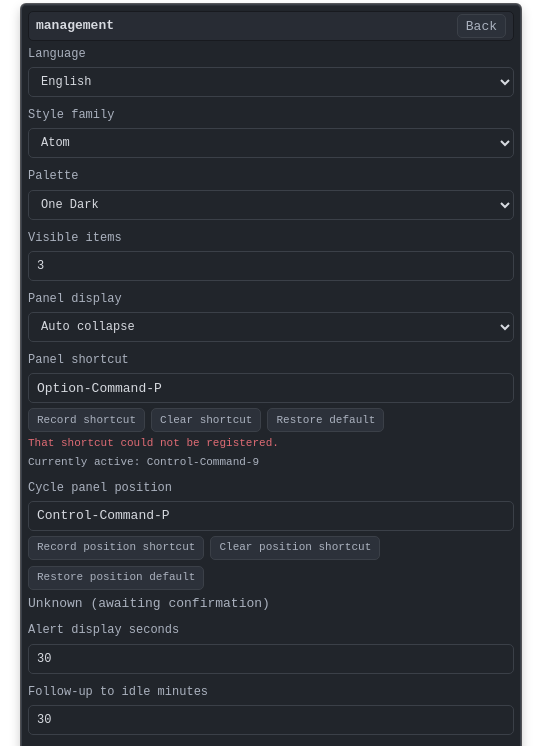
Test: StatusPanelView › keeps a saved custom shortcut after startup conflict with control+super+9 active
The width and height of the screenshot is (543, 746).
Expected: the message "That shortcut could not be registered." is shown, [28,437,279,449]
Expected: the field labelled "Panel shortcut" holds "Option-Command-P", [28,373,514,403]
Click the button "Back" at (481, 26), box [457,14,506,38]
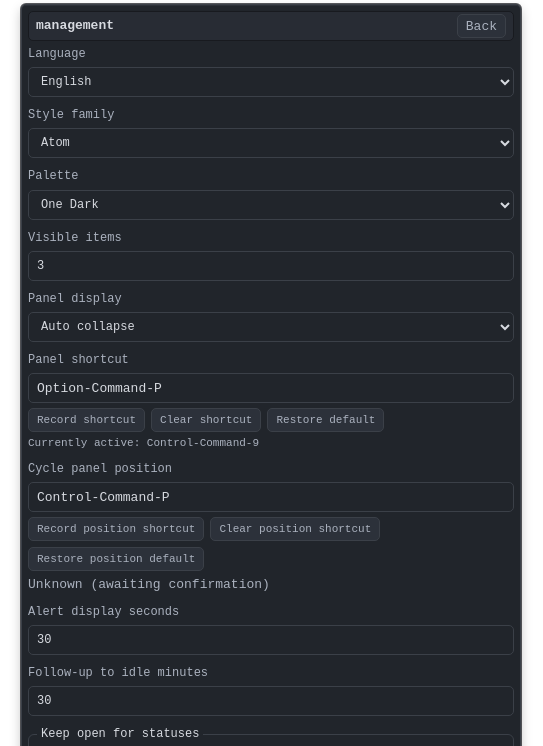
Expected: the message "That shortcut could not be registered." is gone
